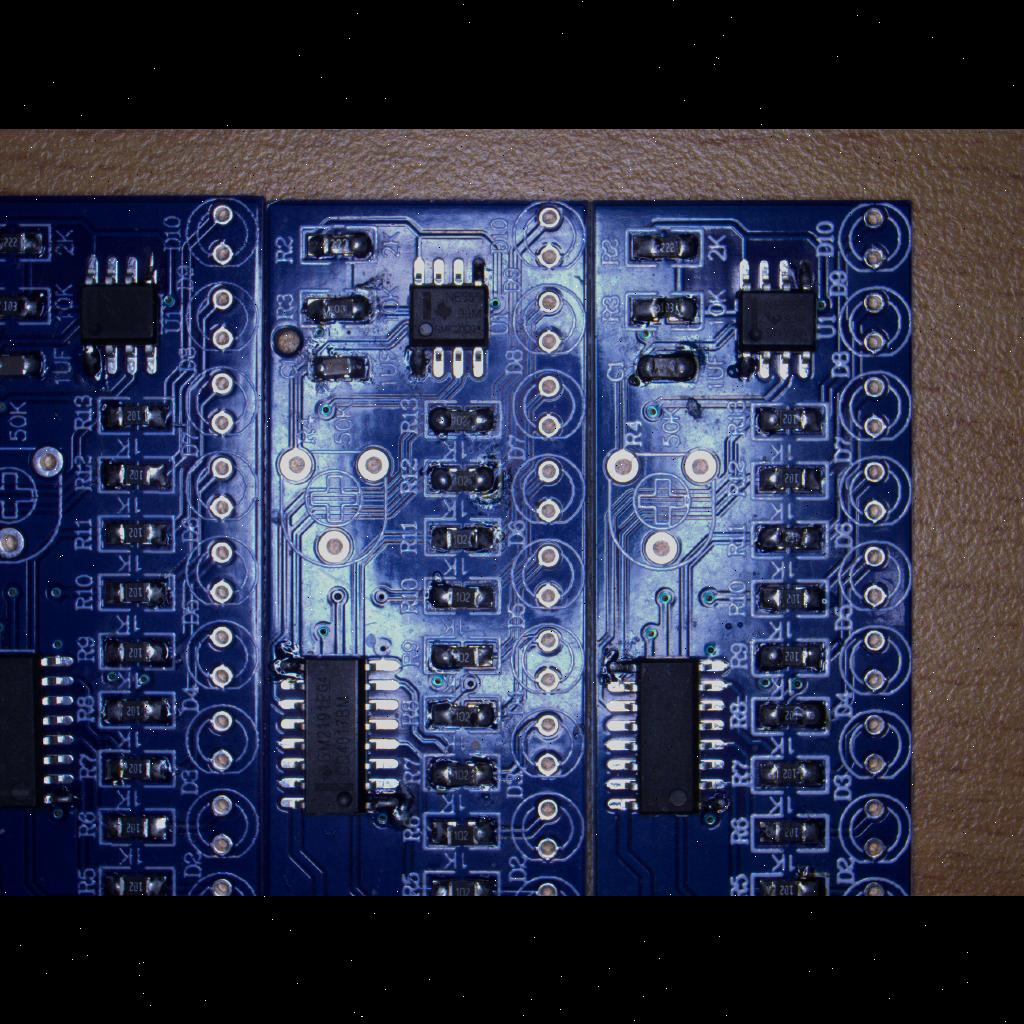OK: (599, 646, 737, 826), (268, 649, 406, 823), (0, 638, 82, 818), (402, 250, 500, 388), (77, 244, 165, 388), (730, 251, 822, 387), (746, 752, 834, 798), (747, 812, 835, 858), (420, 750, 504, 798), (422, 397, 508, 443), (746, 398, 832, 444), (748, 694, 834, 740), (96, 392, 178, 440), (746, 636, 834, 680), (94, 570, 178, 616), (96, 804, 180, 850), (420, 456, 504, 502), (421, 809, 505, 855), (748, 457, 832, 503), (94, 452, 180, 496), (420, 515, 506, 559), (418, 692, 504, 736), (747, 576, 833, 620), (296, 286, 378, 332), (420, 574, 504, 618), (748, 518, 832, 562), (622, 226, 708, 268), (97, 688, 179, 732), (94, 512, 178, 554), (296, 224, 380, 266), (421, 635, 505, 677), (622, 289, 706, 331), (96, 748, 178, 790), (628, 346, 704, 388), (302, 348, 374, 388), (96, 862, 178, 896), (0, 217, 56, 265), (418, 864, 502, 896), (98, 634, 172, 670), (746, 866, 832, 896), (0, 284, 56, 328), (0, 342, 52, 382)
